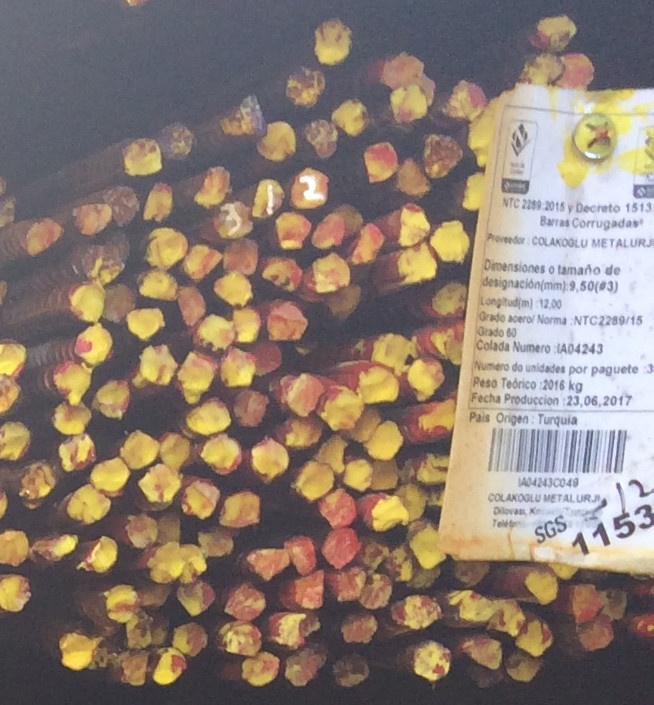dipstick: (314, 20, 357, 66), (533, 13, 578, 53), (412, 644, 457, 684), (72, 485, 113, 525), (484, 598, 526, 637), (372, 333, 420, 367), (434, 219, 470, 264), (448, 590, 493, 626), (215, 350, 255, 390), (145, 229, 186, 268), (410, 525, 448, 567), (398, 248, 442, 284), (259, 306, 305, 340), (450, 557, 496, 591), (310, 253, 349, 293), (331, 100, 372, 138), (293, 168, 330, 210), (201, 437, 243, 474), (281, 648, 326, 682), (422, 134, 460, 174), (259, 122, 300, 159), (272, 209, 308, 251), (364, 141, 397, 186), (286, 66, 325, 104), (252, 438, 288, 479), (382, 55, 428, 87), (392, 597, 441, 627), (570, 614, 613, 648), (296, 463, 334, 501), (558, 52, 597, 89), (70, 285, 109, 322), (292, 574, 331, 611), (141, 466, 180, 503), (221, 237, 261, 273), (350, 220, 382, 265), (325, 284, 361, 324), (271, 611, 319, 641), (396, 158, 431, 199), (357, 367, 398, 402), (445, 82, 487, 116), (385, 87, 428, 120), (21, 463, 53, 507), (406, 358, 443, 396), (414, 401, 453, 437), (525, 566, 561, 605), (60, 634, 99, 670), (303, 123, 343, 158), (97, 380, 132, 420), (522, 53, 563, 87), (226, 587, 269, 619), (517, 617, 554, 654), (123, 138, 161, 174), (177, 355, 213, 393), (284, 412, 322, 448), (104, 186, 139, 225), (264, 259, 303, 294), (570, 582, 605, 621), (124, 309, 168, 340), (221, 493, 261, 527), (245, 344, 287, 376), (218, 624, 266, 652), (86, 245, 123, 281), (183, 481, 220, 517), (55, 362, 91, 399), (138, 347, 173, 385), (430, 280, 468, 315), (366, 493, 401, 531), (176, 581, 215, 615), (198, 165, 230, 206), (173, 284, 205, 325), (506, 654, 547, 686), (247, 548, 292, 577), (91, 462, 136, 491), (188, 400, 230, 431), (218, 201, 254, 237), (365, 422, 401, 458), (236, 99, 271, 136), (76, 330, 113, 365), (324, 531, 361, 566), (461, 635, 500, 668), (343, 610, 382, 643), (157, 122, 192, 158), (239, 654, 281, 684), (149, 549, 185, 584), (431, 324, 468, 358), (325, 392, 359, 429), (121, 432, 158, 466), (196, 316, 235, 348), (197, 528, 236, 560), (58, 400, 93, 435), (232, 389, 266, 425), (313, 212, 346, 249), (332, 653, 369, 686), (151, 651, 188, 684), (177, 548, 210, 585), (213, 277, 258, 304), (30, 540, 80, 564), (183, 247, 218, 281), (363, 455, 397, 490), (320, 491, 354, 526), (138, 273, 176, 304), (346, 405, 380, 439), (283, 536, 318, 569), (103, 588, 139, 620), (107, 286, 138, 323), (63, 435, 93, 473), (74, 202, 113, 231), (287, 377, 319, 412), (399, 206, 430, 242), (396, 487, 427, 523), (319, 435, 349, 472), (413, 454, 446, 487), (335, 566, 366, 601), (359, 575, 390, 610), (354, 540, 391, 569), (337, 460, 370, 492), (89, 540, 121, 573), (1, 574, 28, 613), (252, 179, 282, 214), (1, 420, 26, 462), (24, 221, 57, 252), (175, 624, 205, 657), (388, 549, 419, 580), (1, 339, 25, 379), (158, 437, 190, 466), (147, 183, 172, 220), (120, 651, 148, 684), (3, 529, 26, 568), (126, 613, 152, 647), (136, 585, 174, 608), (127, 514, 155, 545), (231, 308, 258, 339), (1, 375, 21, 412), (153, 612, 173, 648), (159, 513, 180, 542)
